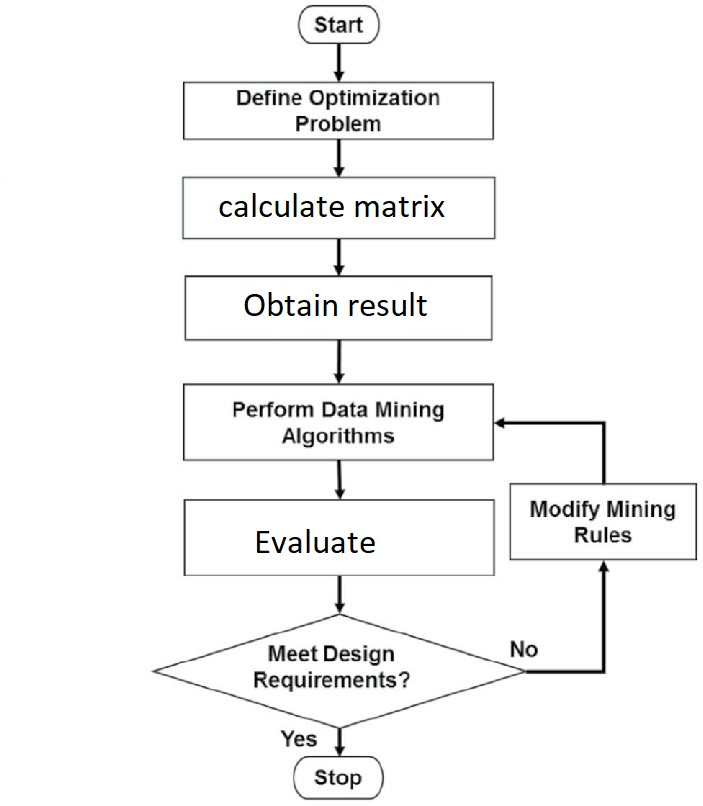arrow: (522, 559, 611, 681), (492, 414, 610, 483), (325, 40, 350, 87), (330, 336, 347, 383), (330, 233, 348, 276), (331, 455, 348, 500), (330, 576, 348, 616), (332, 134, 347, 178), (332, 725, 347, 758)
decision: (150, 612, 530, 728)
process: (178, 379, 497, 465), (178, 494, 499, 579), (180, 270, 498, 345), (177, 172, 500, 243), (180, 77, 499, 145), (503, 478, 703, 565)
terminator: (289, 753, 388, 803), (292, 3, 382, 47)
text: (228, 398, 449, 448), (233, 87, 443, 134), (252, 642, 413, 692), (525, 497, 680, 547), (214, 190, 447, 222), (238, 288, 428, 321), (253, 528, 377, 555), (308, 764, 363, 789), (311, 12, 367, 36), (277, 725, 322, 749), (507, 637, 538, 660)
